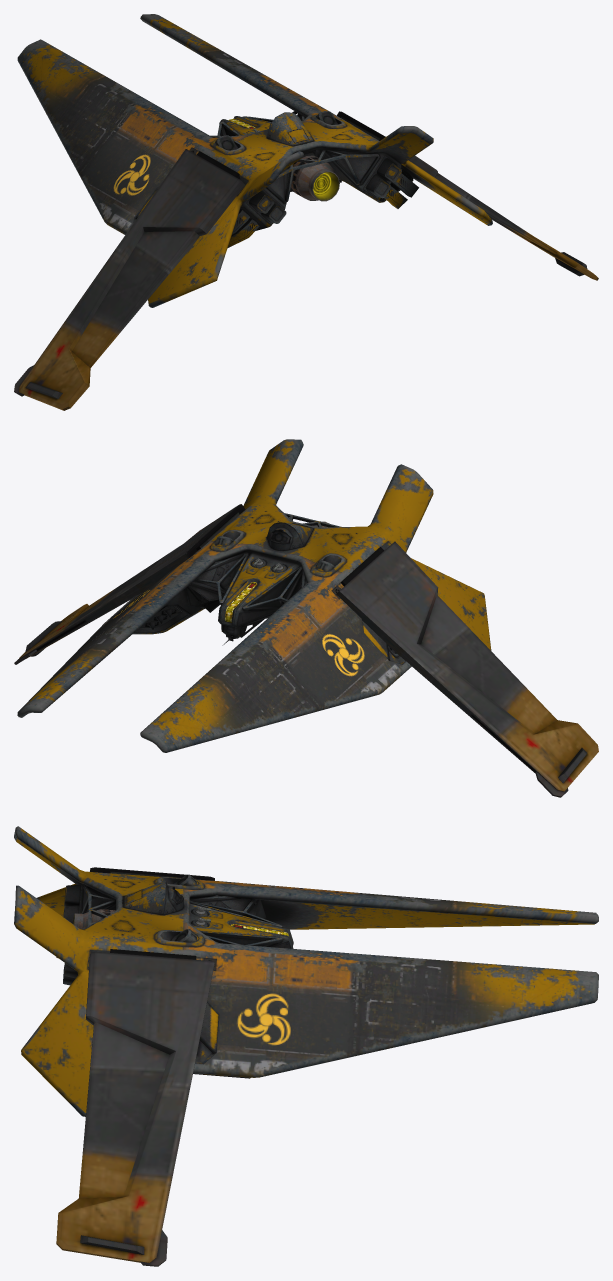
The model's file is maximus.glb.
The picture shows the model from 3 angles, top to bottom: view 1: azimuth 30°, elevation 25°; view 2: azimuth 150°, elevation 25°; view 3: azimuth 270°, elevation 25°; orthographic projection. The views are drawn at different scales.
Parts seen in each view (by area): view 1: body, L_wing, R_wing, turret11, turret06; view 2: body, L_wing, R_wing, turret06; view 3: body, R_wing, turret06, L_wing.
Boxes of the visible parts, left/top/right/bottom form: body: left=17, top=14, right=492, bottom=307; L_wing: left=14, top=149, right=245, bottom=410; R_wing: left=337, top=111, right=598, bottom=280; turret11: left=290, top=155, right=339, bottom=201; turret06: left=267, top=112, right=313, bottom=146; body: left=17, top=439, right=491, bottom=752; L_wing: left=336, top=541, right=598, bottom=797; R_wing: left=14, top=504, right=245, bottom=664; turret06: left=267, top=522, right=313, bottom=550; body: left=14, top=826, right=598, bottom=1116; R_wing: left=56, top=949, right=214, bottom=1266; turret06: left=123, top=881, right=183, bottom=914; L_wing: left=56, top=867, right=214, bottom=957.
Bounding box in the file's own units: 43.74 × 17.8 × 36.23.
Materials: 3 (3 with a texture image).
